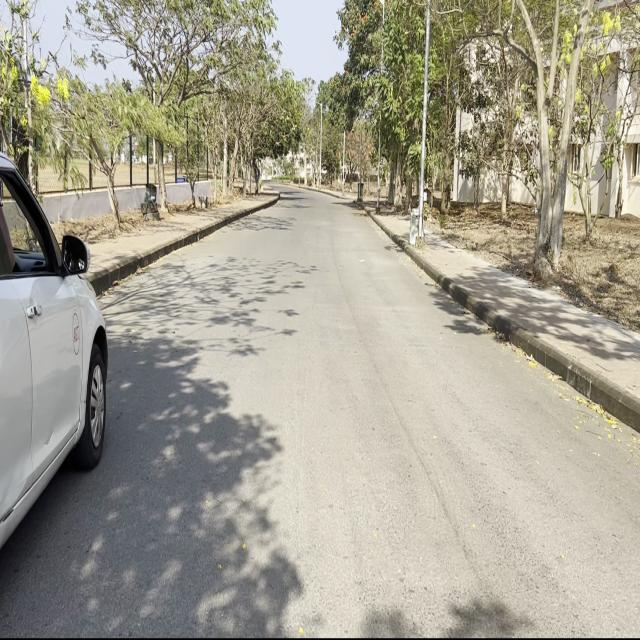Object: (3, 100, 109, 589)
Road: (4, 188, 637, 632)
